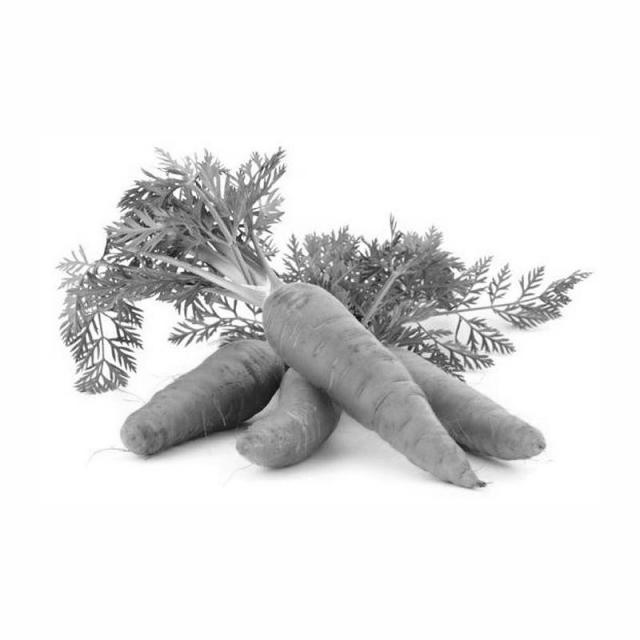Fresh_Carrot: (255, 270, 477, 481), (115, 340, 278, 441)
